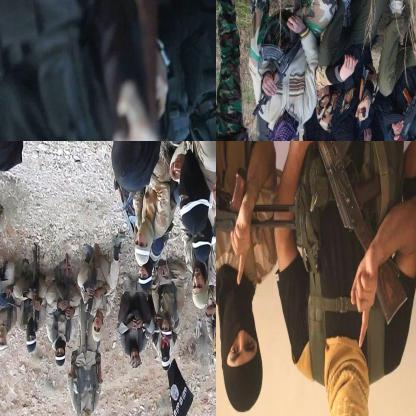rifle: (316, 141, 411, 329), (216, 141, 300, 246), (245, 23, 304, 118), (375, 73, 415, 140), (22, 237, 42, 326), (114, 187, 140, 237), (61, 249, 73, 346), (83, 238, 95, 333), (0, 274, 21, 316), (0, 200, 4, 308)
